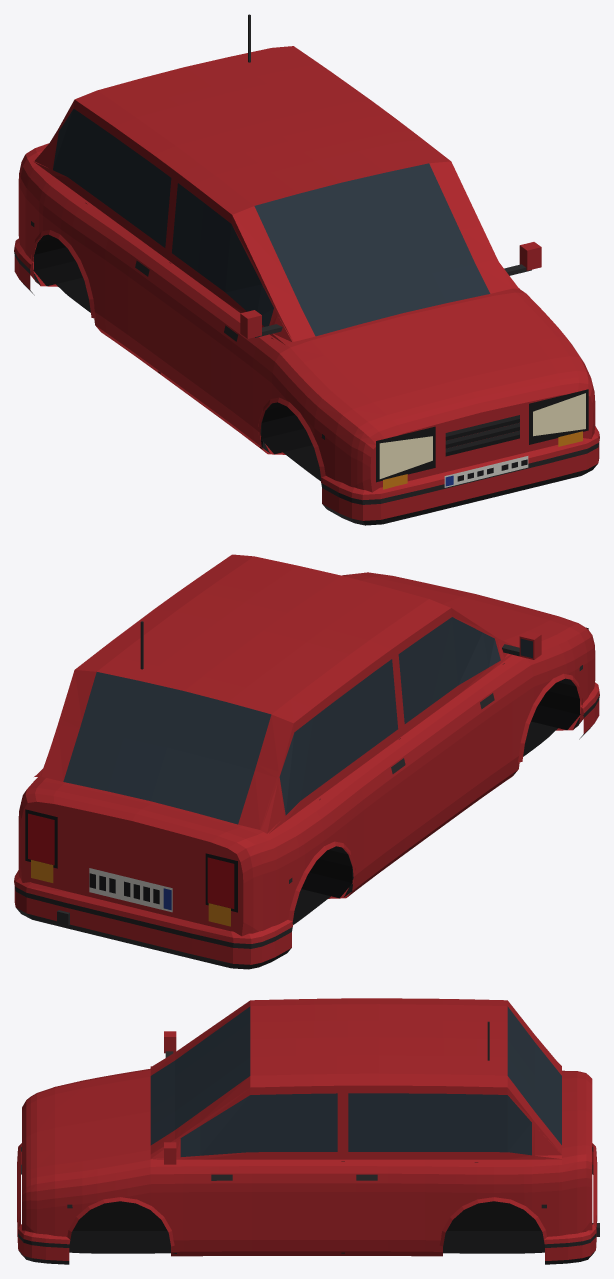
Rendered from alcor-picaro.glb.
The picture shows the model from 3 angles, top to bottom: view 1: azimuth 30°, elevation 25°; view 2: azimuth 150°, elevation 25°; view 3: azimuth 270°, elevation 25°; orthographic projection. The views are drawn at different scales.
Visible parts, largest first — view 1: LOD0, door_FR, door_RR; view 2: LOD0, door_FR, door_RR; view 3: LOD0, door_FL, door_RL.
Part boxes in pixels (bbox=[...]): LOD0: bbox=[14, 14, 599, 525]; door_FR: bbox=[157, 174, 278, 445]; door_RR: bbox=[71, 113, 171, 368]; LOD0: bbox=[14, 554, 599, 969]; door_FR: bbox=[398, 608, 518, 844]; door_RR: bbox=[312, 650, 412, 890]; LOD0: bbox=[17, 998, 599, 1264]; door_FL: bbox=[175, 1085, 341, 1251]; door_RL: bbox=[345, 1085, 476, 1251].
Size of what is drawn, in the model's own units: 1.83 by 1.56 by 3.87.
